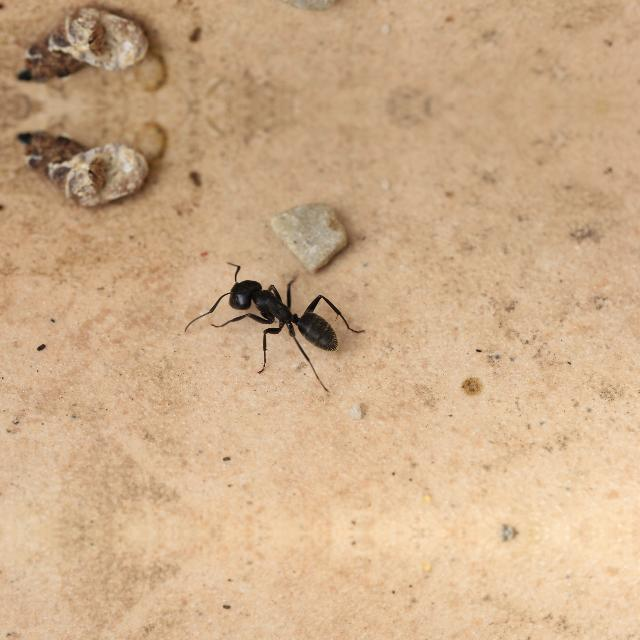Camponotus: (192, 250, 382, 388)
